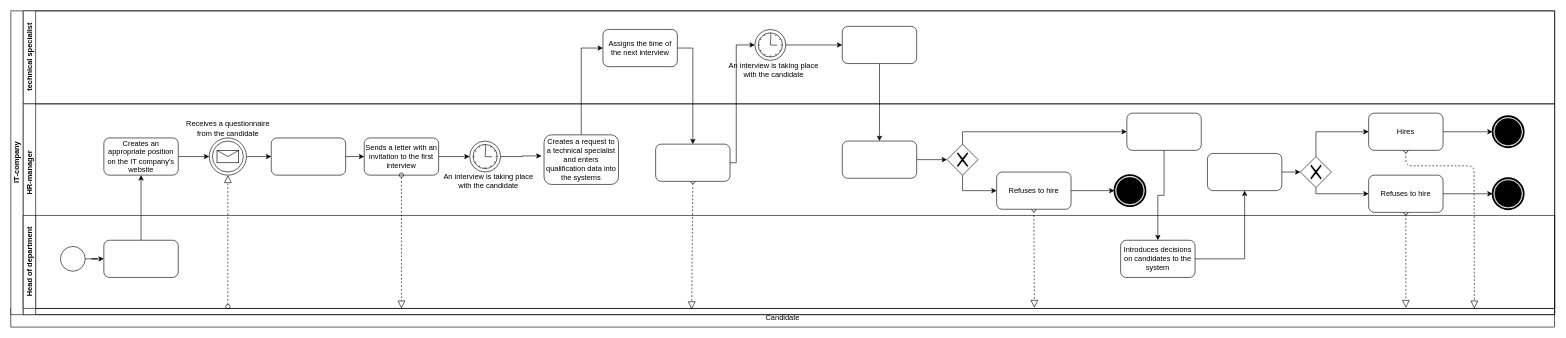
The diagram is 1566 pixels wide and 338 high, and some of its shapes have lost their labels. Here are the shapes that lost their labels. From the top down, the centre of each, then its label:
At (879,45): "Registers the results of the interview in the HR-system".
At (1163,131): "Sends a request to confirm the Candidate's employment".
At (308,156): "Creates a distribution of candidates in the system and redirects questionnaires".
At (692,162): "A letter is sent with an invitation to the second interview".
At (879,159): "Makes decisions and compares the results of interviews".
At (1244,172): "Prepares the answer of the candidate".
At (140,258): "Creates appropriate positions with requirements for the candidate".
